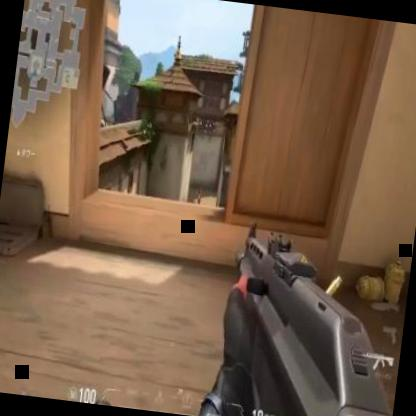enemy: (196, 188, 202, 204)
enemy_head: (198, 188, 202, 192)
